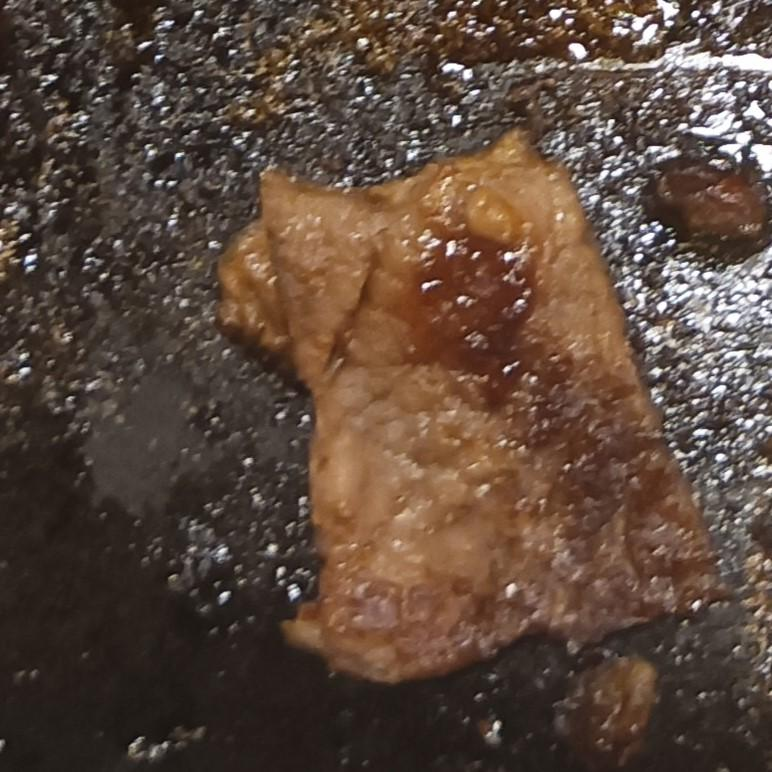Overcooked: (215, 129, 722, 689), (643, 145, 771, 268)
